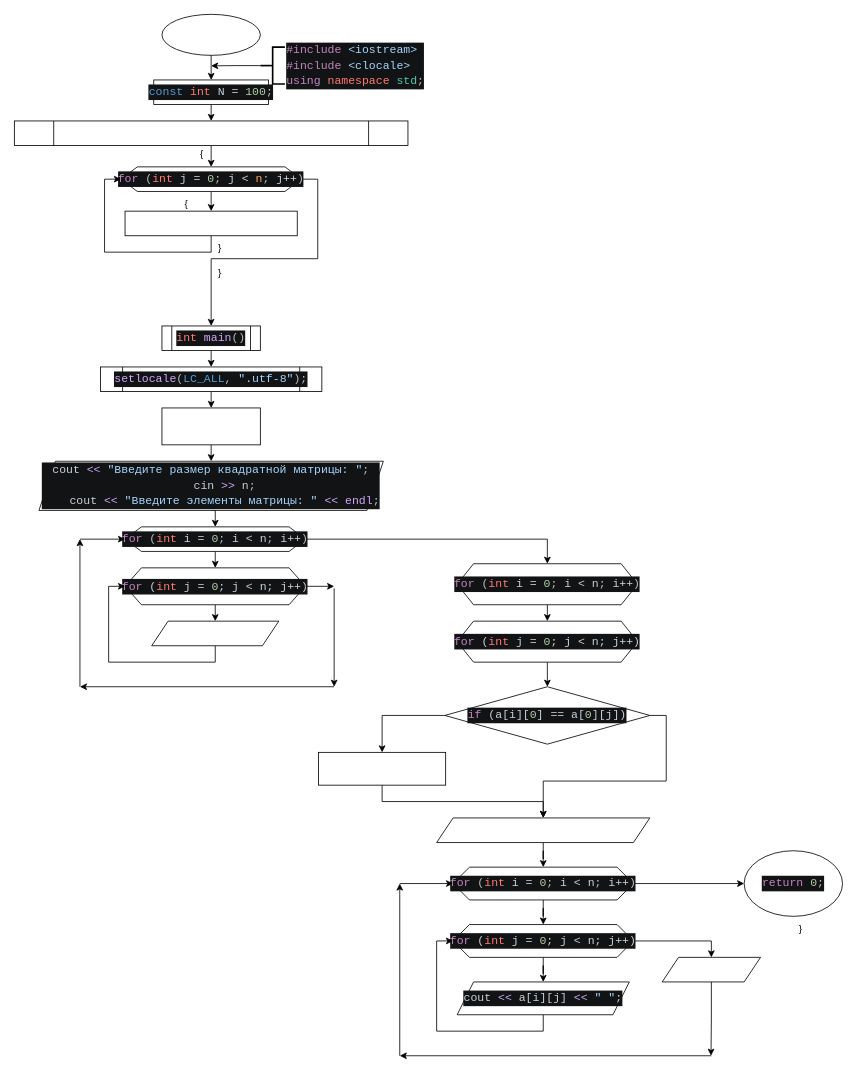
Image size: 857x1077. Some labels were removed from this diagram. Here are the shapes that lost their labels. From the top down, the centre of each, then its label:
(210,34): Начало
(211,133): void change ( int a [][ N ], int n , int row , int col )
(210,223): swap ( a [ row ][ j ], a [ j ][ col ]);
(210,426): int a [ N ][ N ]; int n ;
(215,633): cin >> a [ i ][ j ];
(382,768): change ( a , n , i , j );
(543,830): cout << "Результат: " << endl ;
(711,969): cout << endl ;
